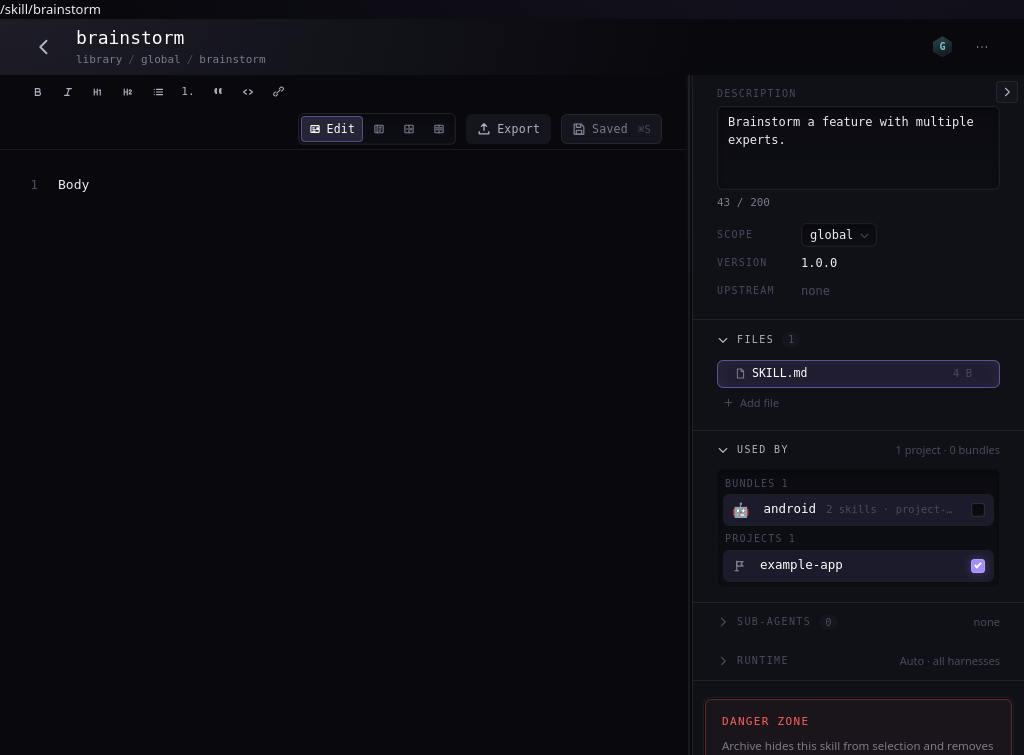
Test: SkillEditor — rename cascade › V5: toggle disabled at zero agent-doc refs, with the empty-copy sub-line
Click the button named "Rename skill name:" at (139, 38), box 72,26 -> 206,50
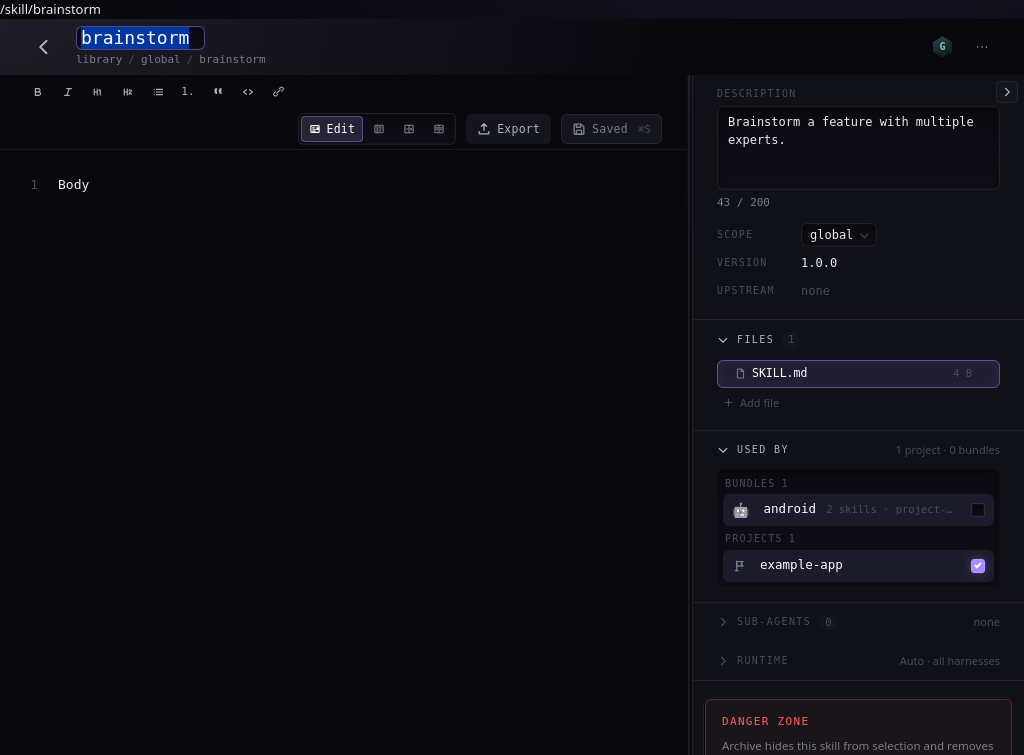
Clear the field named "Skill name" at (141, 38), box 76,26 -> 205,50
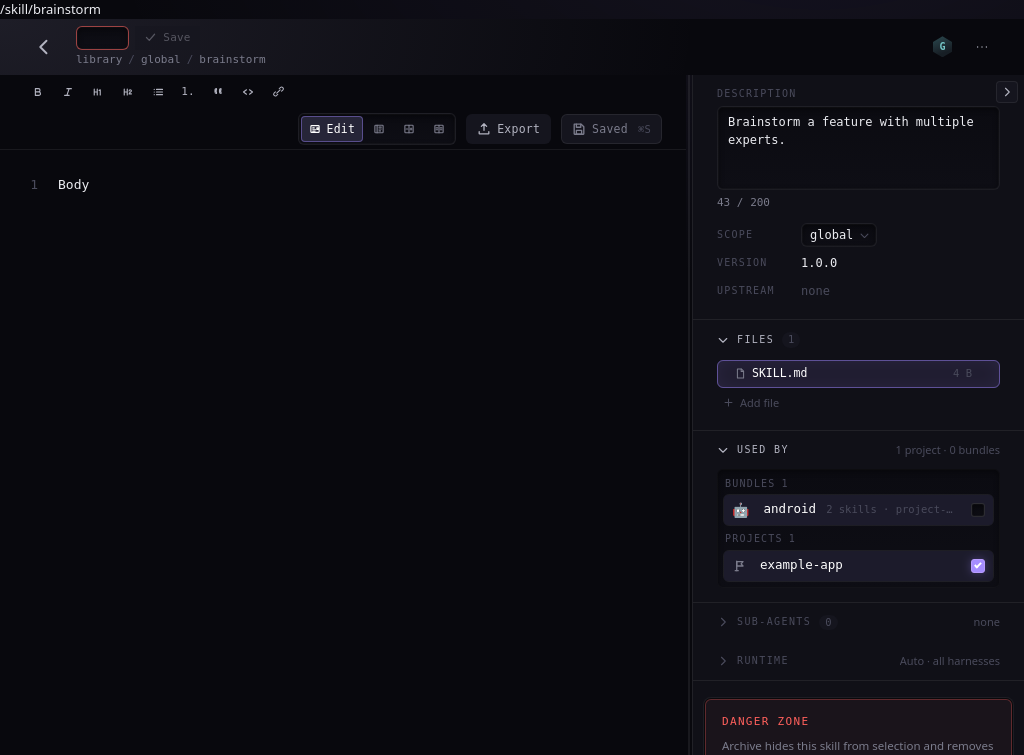
Type "brainstorm-plus" into the field named "Skill name" at (103, 38), box 76,26 -> 129,50
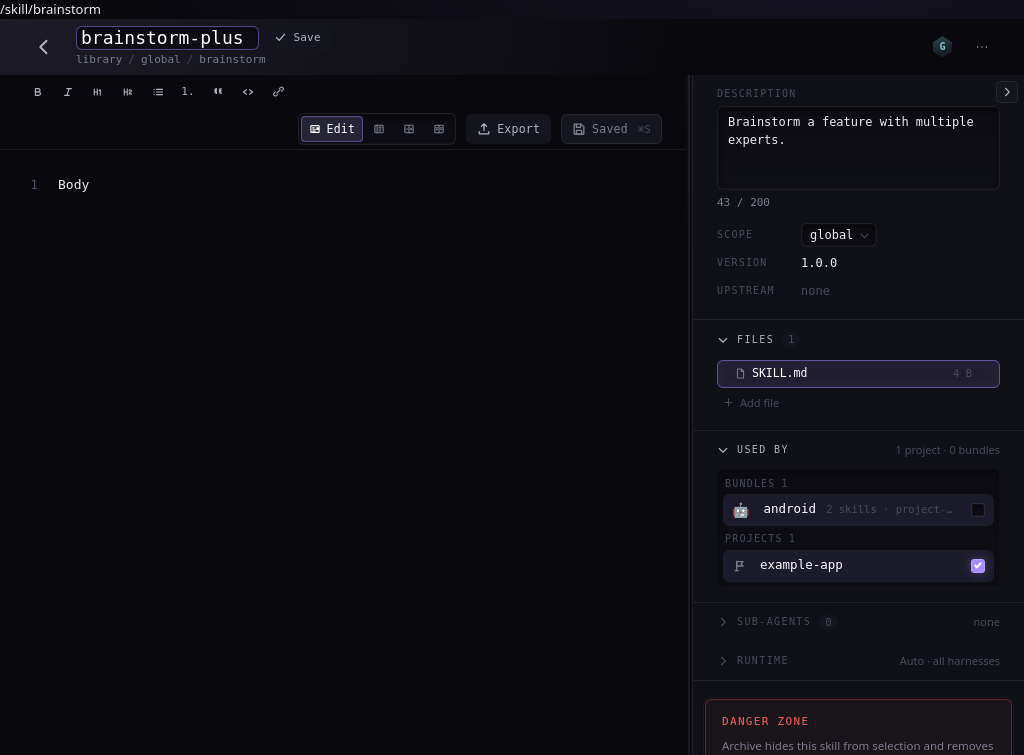
Press Enter
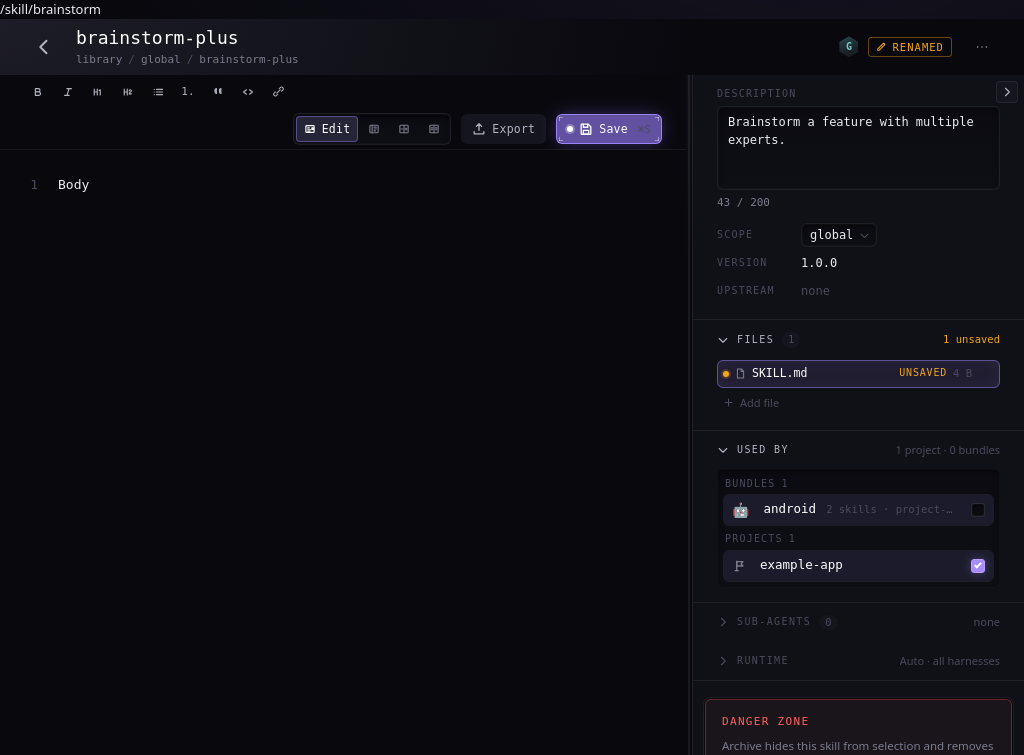
Click the button "Save ⌘S" at (609, 129), box 556,114 -> 662,144
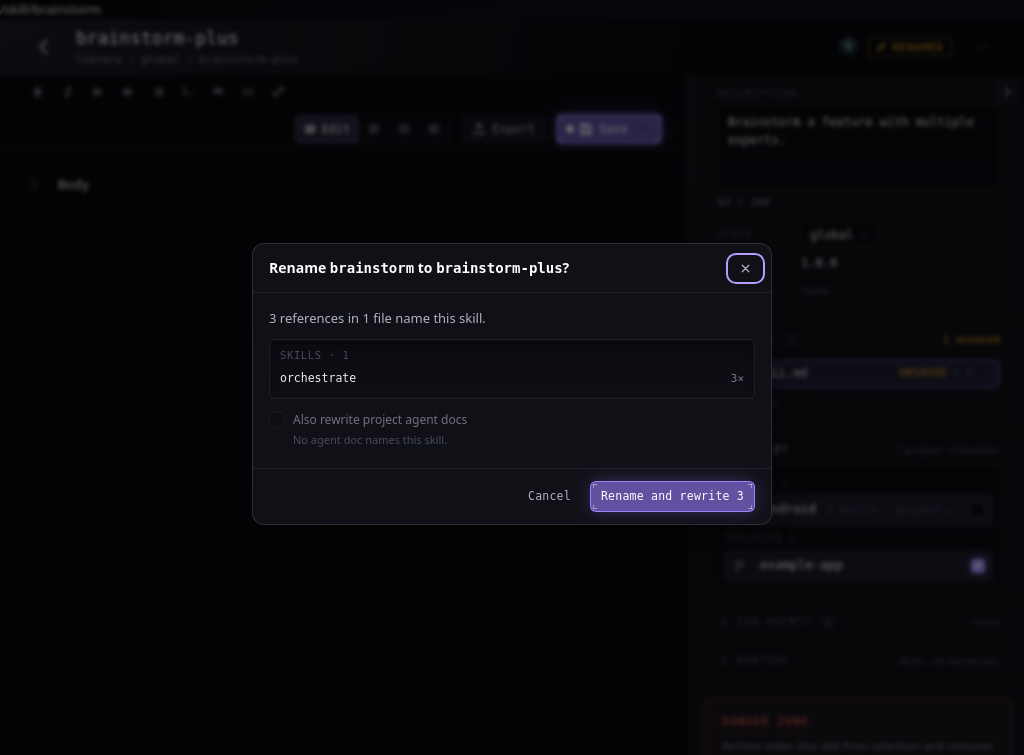
Expected: the checkbox with test id "rename-refs-agent-docs" is disabled, 269,411 -> 467,428
Expected: the text "No agent doc names this skill." is shown, 293,432 -> 447,447
